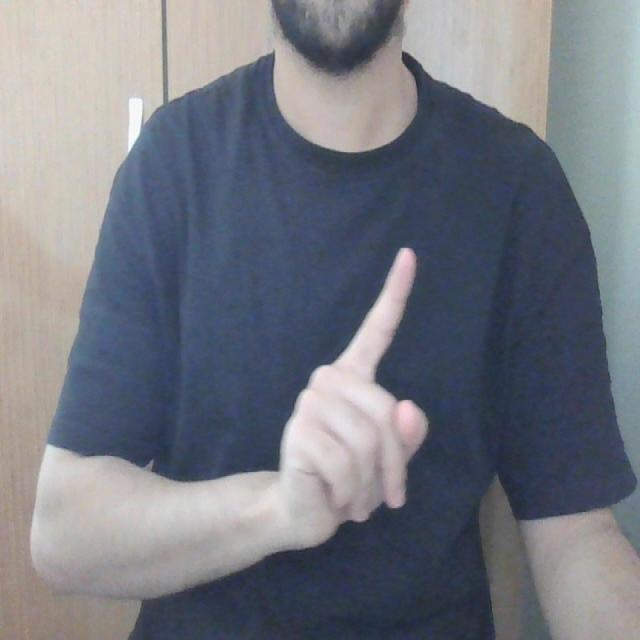Hayir: (274, 167, 431, 570)
